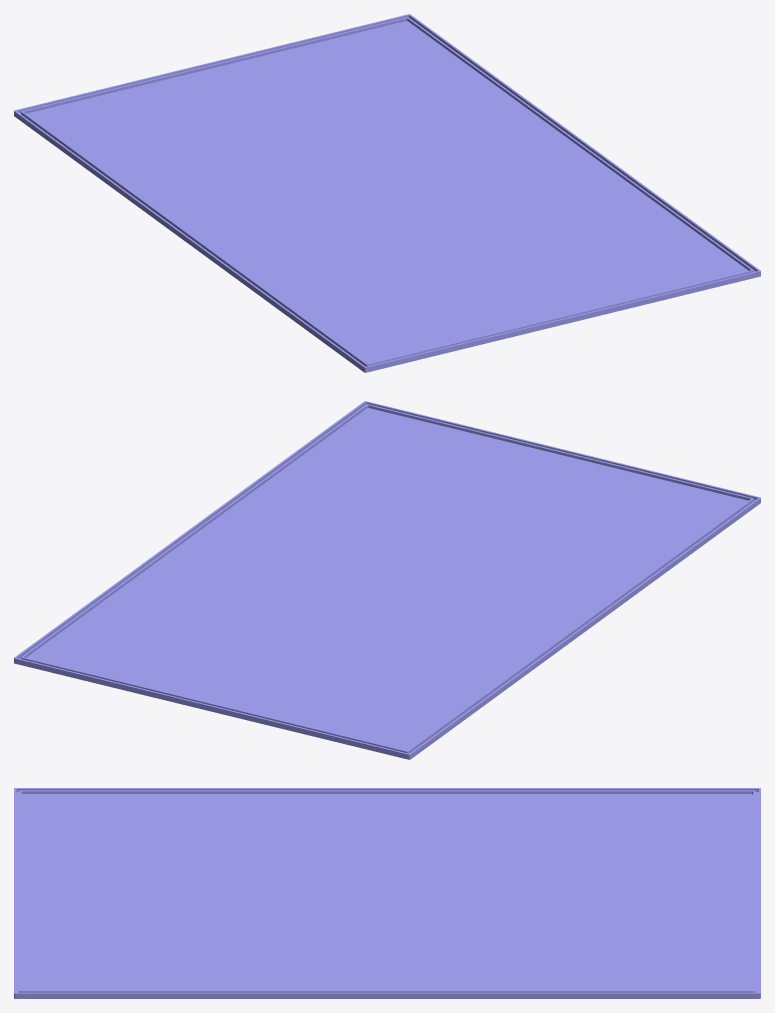
Rendered from PartBody 7.FBX.
3 renders of one model, top to bottom at view 1: azimuth 30°, elevation 25°; view 2: azimuth 150°, elevation 25°; view 3: azimuth 270°, elevation 25°, orthographic. The views are drawn at different scales.
Visible parts, largest first — view 1: PartBody; view 2: PartBody; view 3: PartBody.
Part boxes in pixels (x1,y1,x2,y2): PartBody: (14, 14, 760, 372); PartBody: (14, 401, 760, 759); PartBody: (14, 788, 760, 998).
Size of the model in its own units: 318 by 488 by 3.9.
